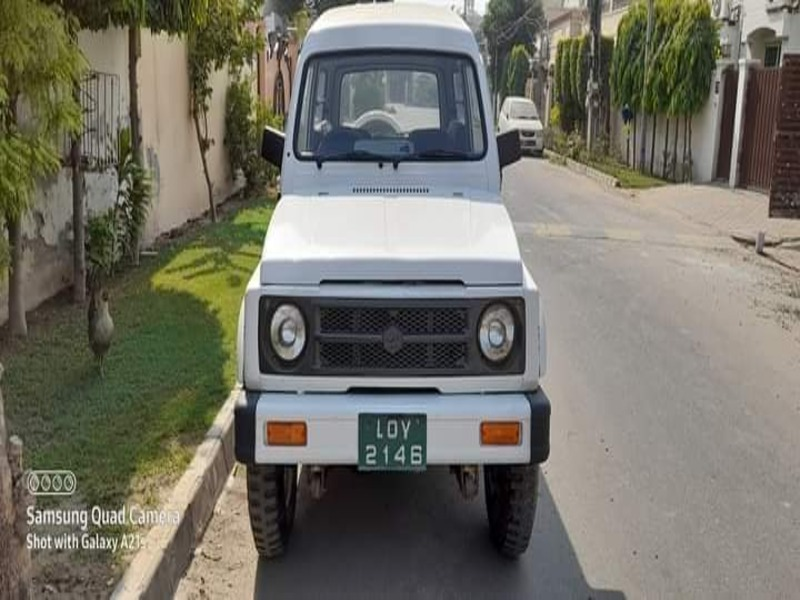License Plate: (356, 410, 432, 471)
